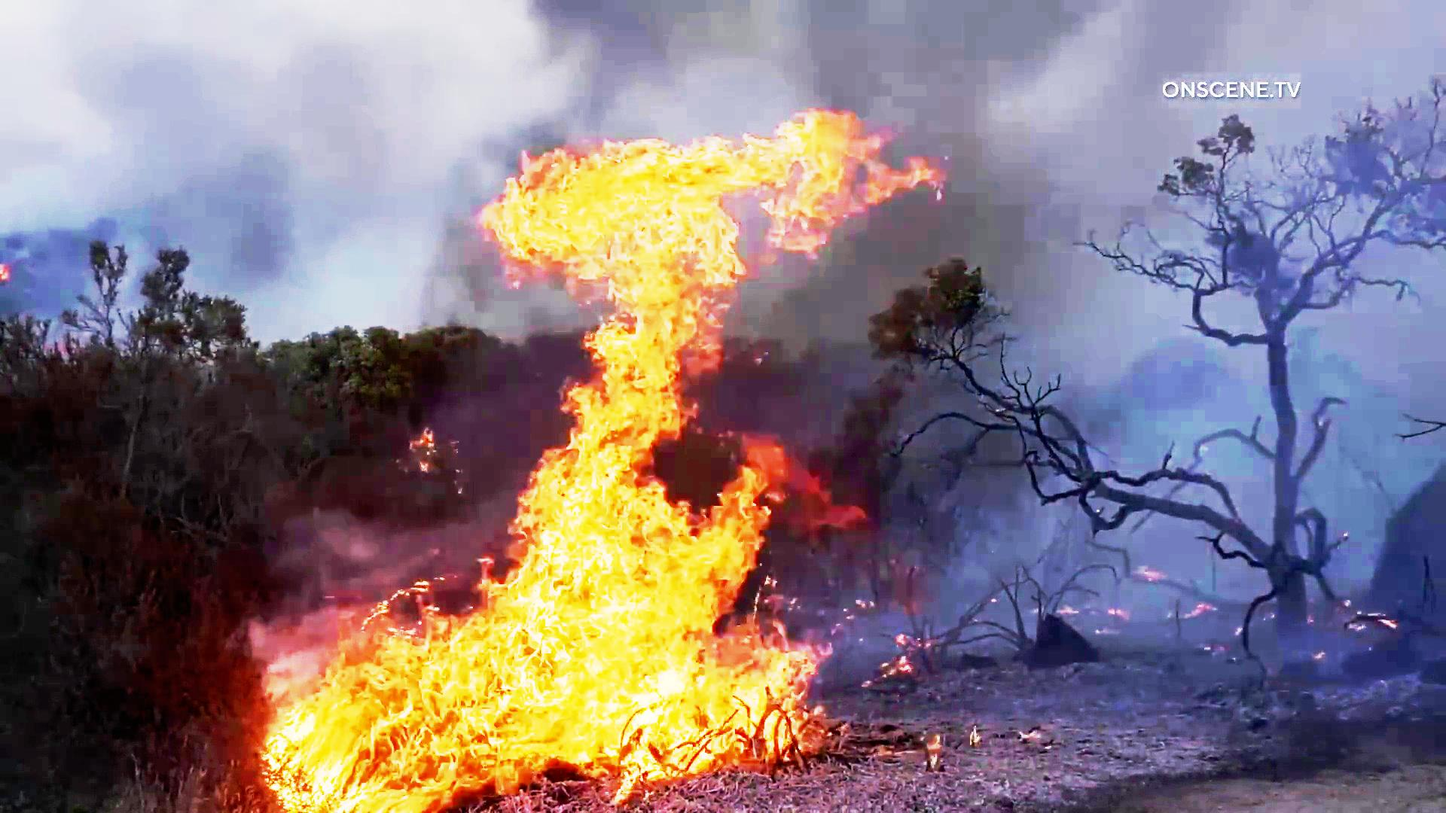fire: (275, 126, 923, 813)
